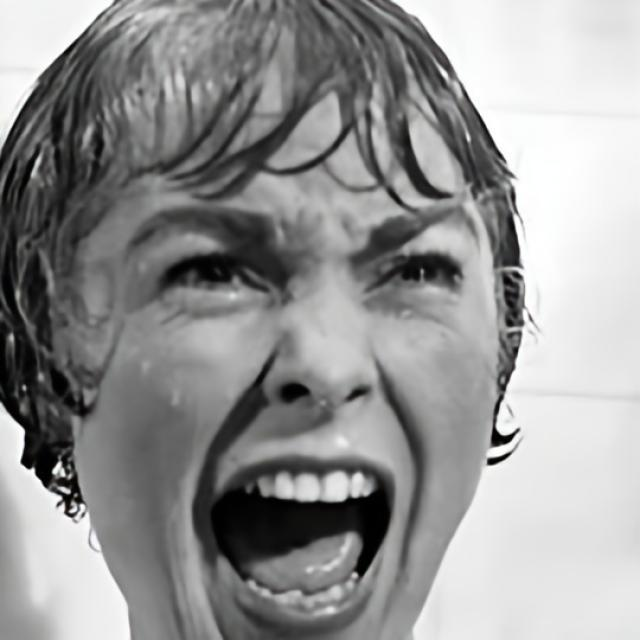fear: (68, 0, 500, 635)
